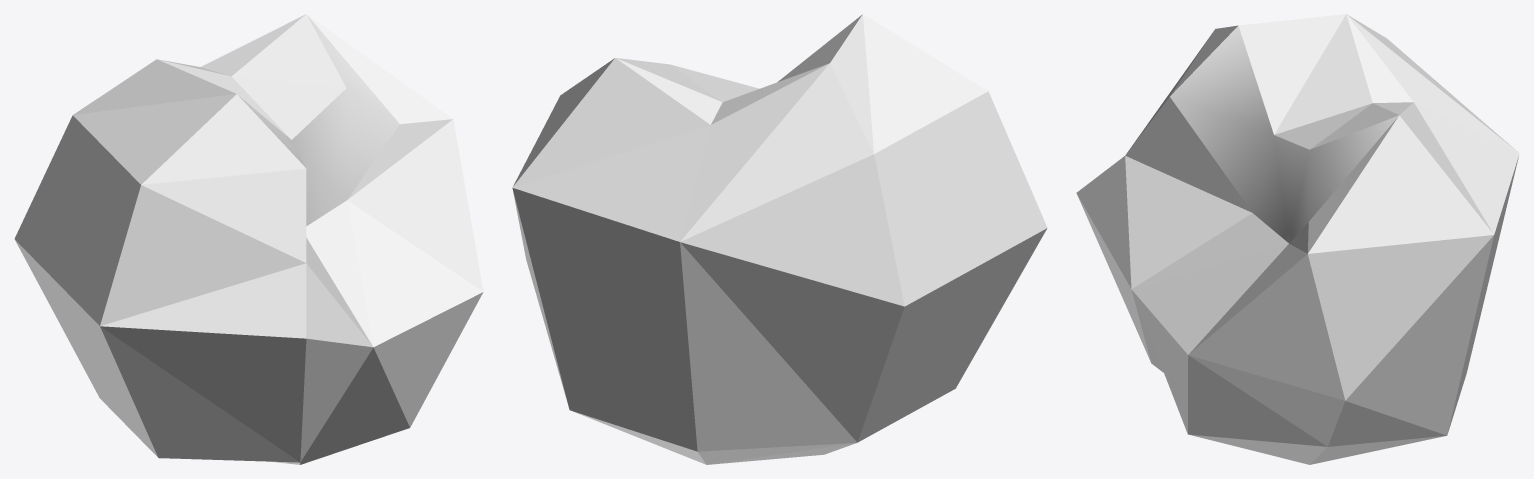
File: trash.FBX
The picture shows the model from 3 angles, left to right: view 1: azimuth 30°, elevation 25°; view 2: azimuth 150°, elevation 25°; view 3: azimuth 270°, elevation 25°; orthographic projection. The views are drawn at different scales.
Parts seen in each view (by area): view 1: trash; view 2: trash; view 3: trash.
Part boxes in pixels (left/top/right/bottom): trash: left=14, top=14, right=483, bottom=464; trash: left=512, top=14, right=1047, bottom=464; trash: left=1076, top=14, right=1519, bottom=464.
Bounding box in the file's own units: 12.93 × 11.37 × 12.16.
